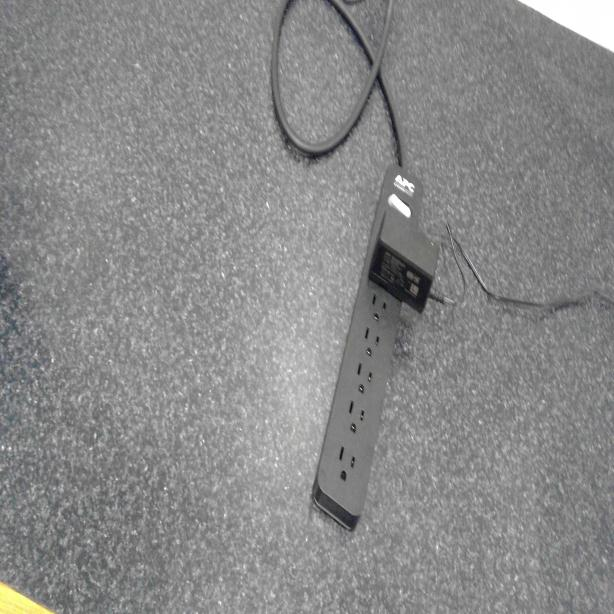typeb: (336, 445, 356, 493), (347, 392, 367, 438), (367, 286, 390, 323), (362, 324, 383, 360), (355, 360, 375, 396)
